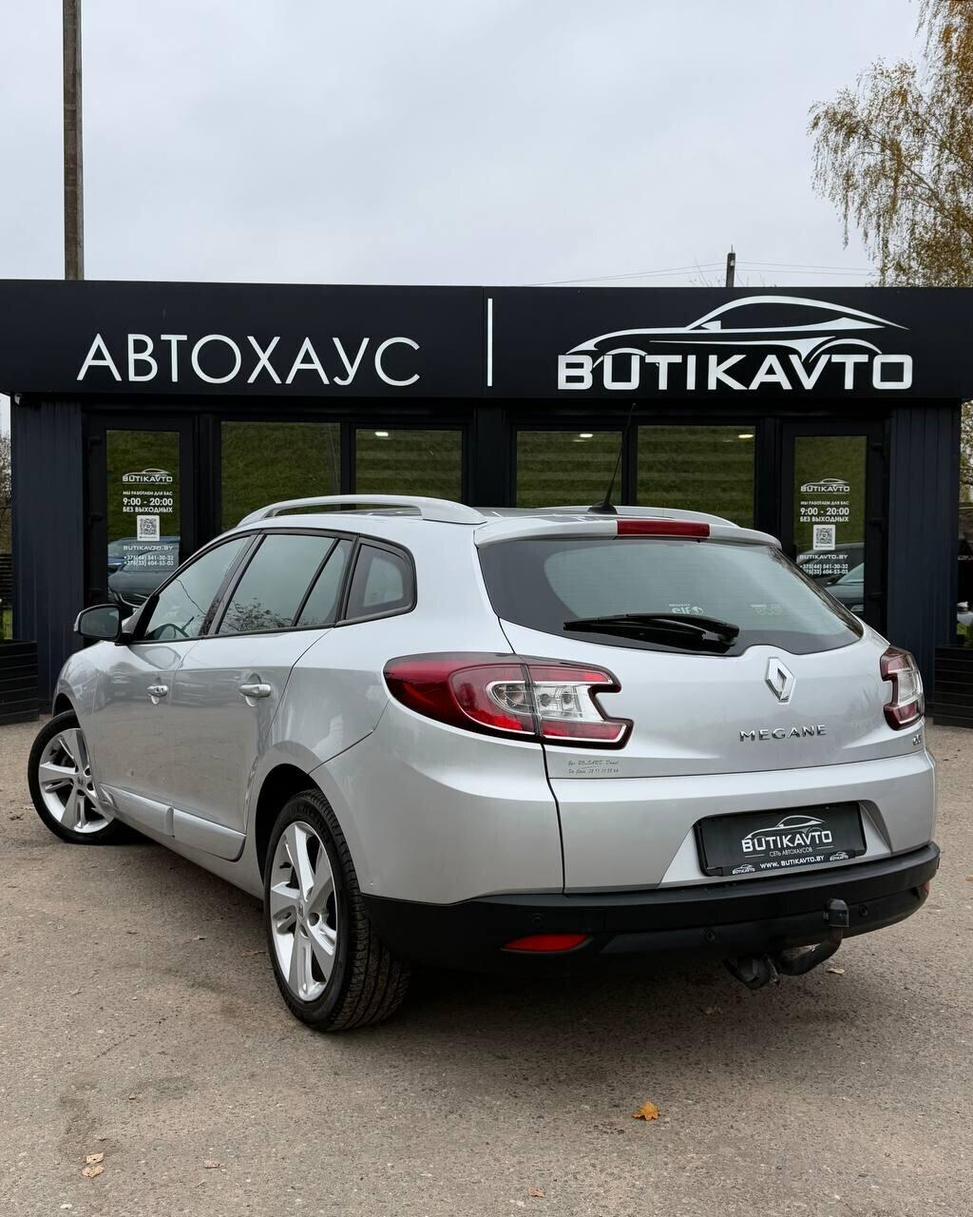Megane_2012-2014: (35, 491, 944, 1030)
